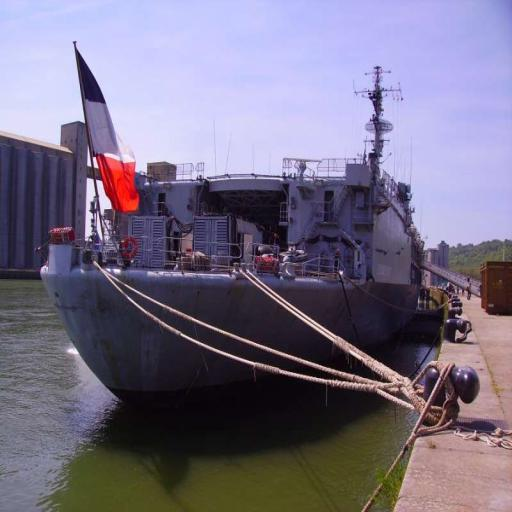Portanaves: (30, 41, 435, 424)
